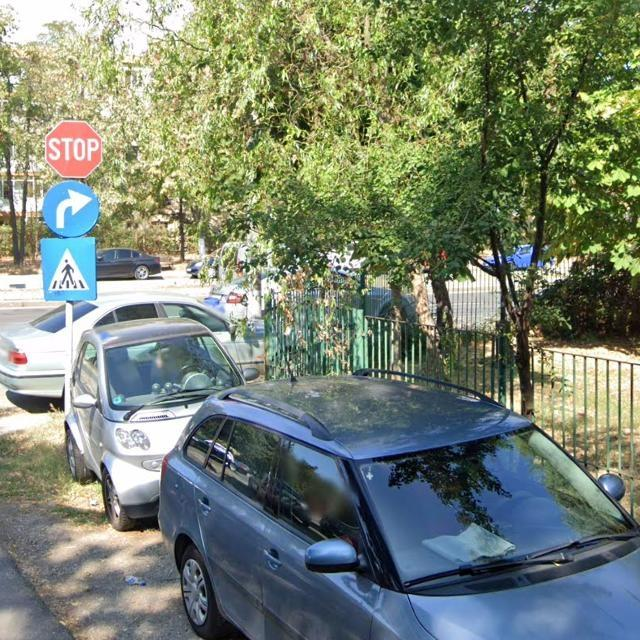info_crosswalk: (41, 237, 99, 301)
prio_stop: (46, 119, 104, 178)
